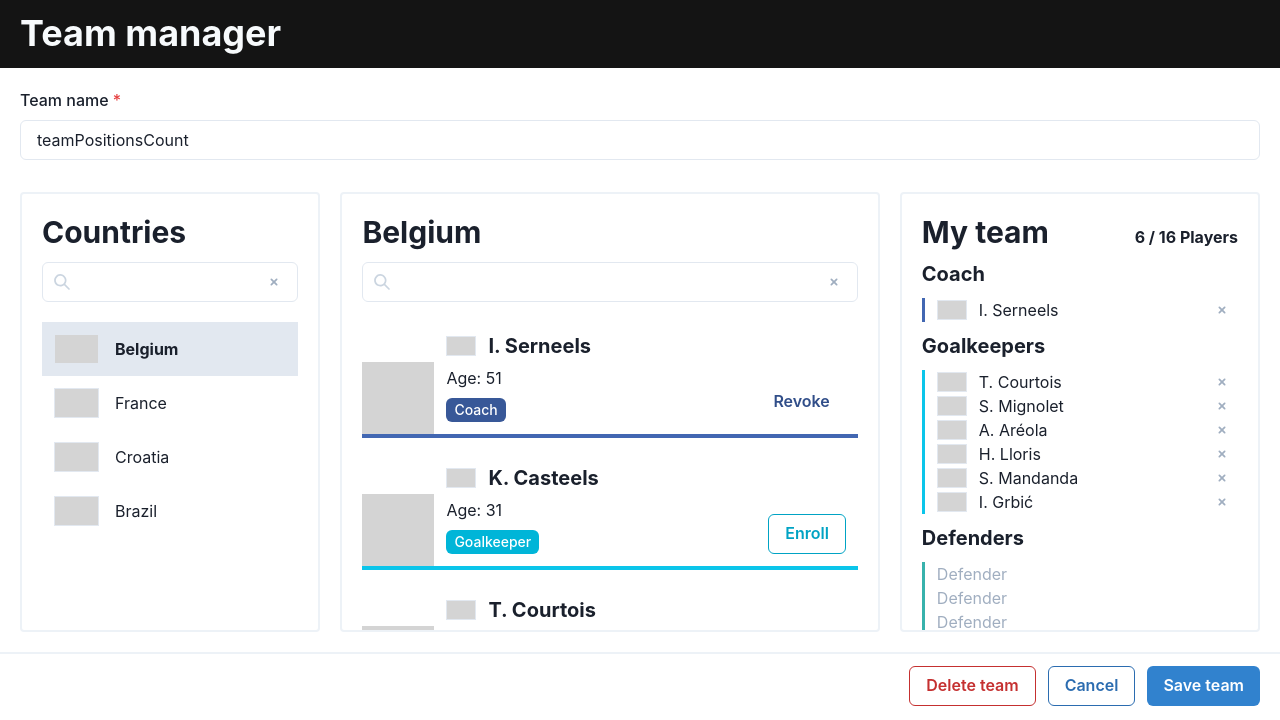
Test: <ManagerPlayersList /> › given adding a player will make impossible to meet position min count requirement, when enrolling player should show error message
expect the heading "Belgium" is shown: met, box x1=362 y1=214 x2=481 y2=250
Click the button named "Enroll K. Casteels.".
click(807, 534)  # box x1=768 y1=514 x2=846 y2=554
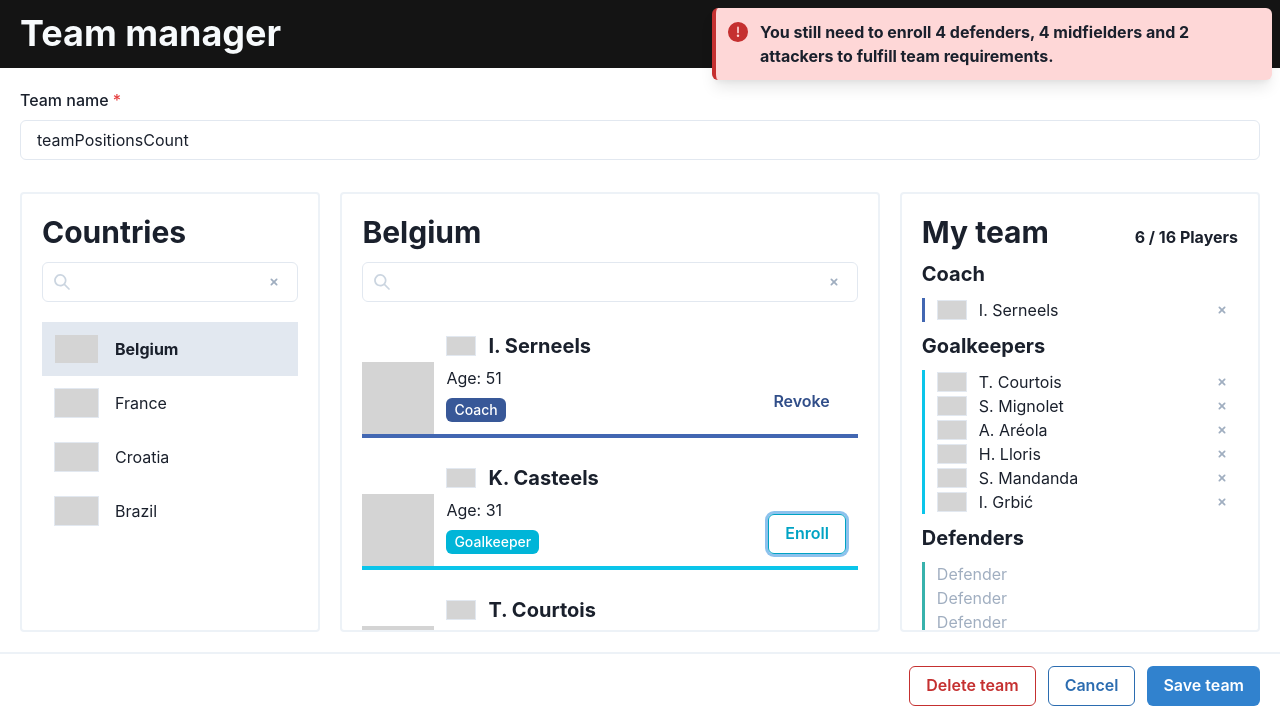
expect the text "You still need to enroll 4 defenders, 4 midfielders and 2 attackers to fulfill team requirements." is shown: met, box x1=760 y1=22 x2=1189 y2=66
